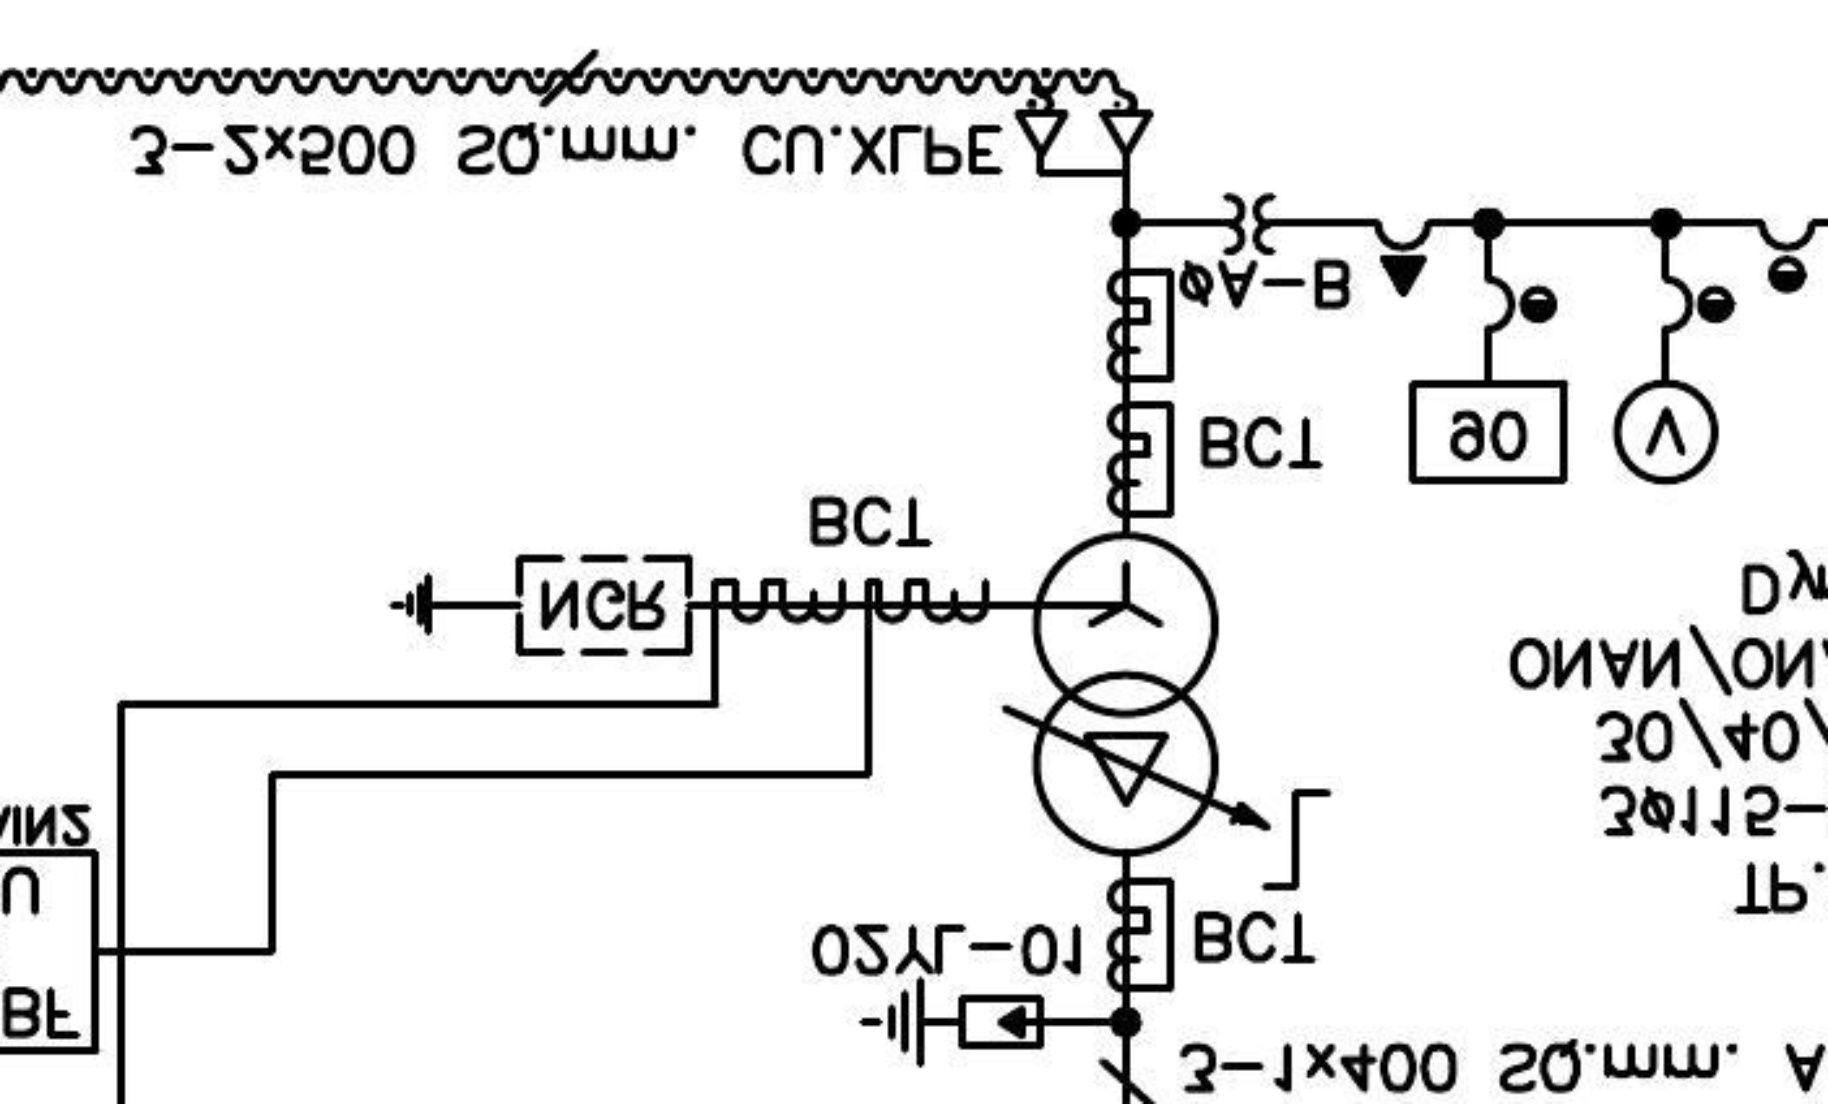11522_tx_dyn1: (1031, 529, 1221, 858)
115_la: (856, 974, 1046, 1070)
NGR_future: (387, 552, 694, 658)
terminator_double: (1014, 108, 1154, 179)
v_m: (1610, 378, 1721, 487)
